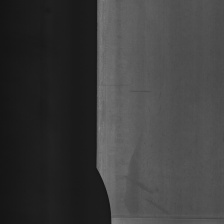crescent_gap: (107, 207, 224, 224), (88, 155, 115, 224)
